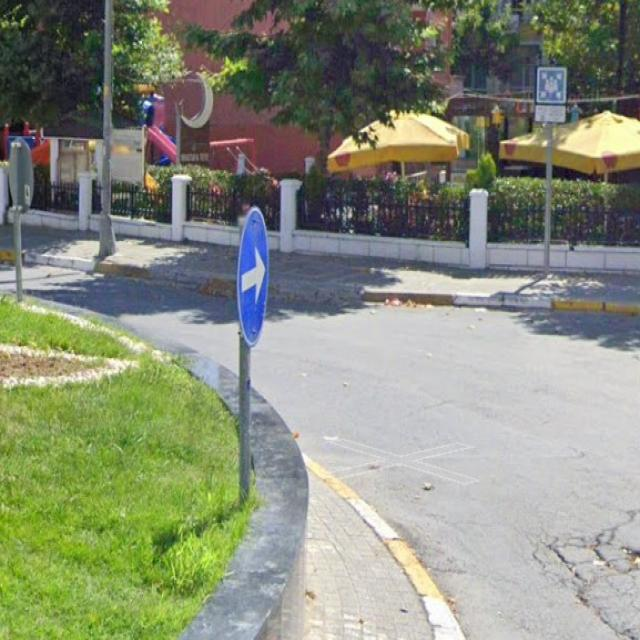Turn Right: (235, 204, 277, 355)
